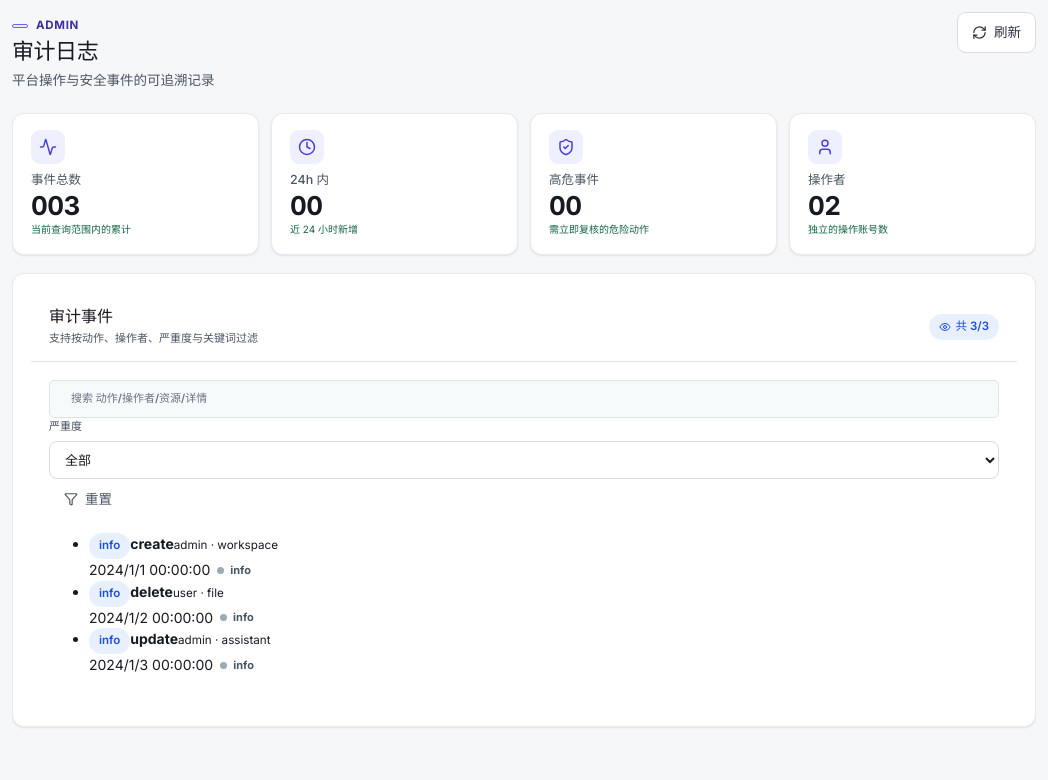
Test: AdminAuditLogsPage › 清空过滤输入框时恢复显示全部日志
Expected: the number of list items with test id "audit-logs-item" is 3, [89,534,278,578]; [89,581,254,626]; [89,628,270,673]
Type "delete" into the search field with test id "audit-filter-input" at (524, 399), box [59,382,989,416]
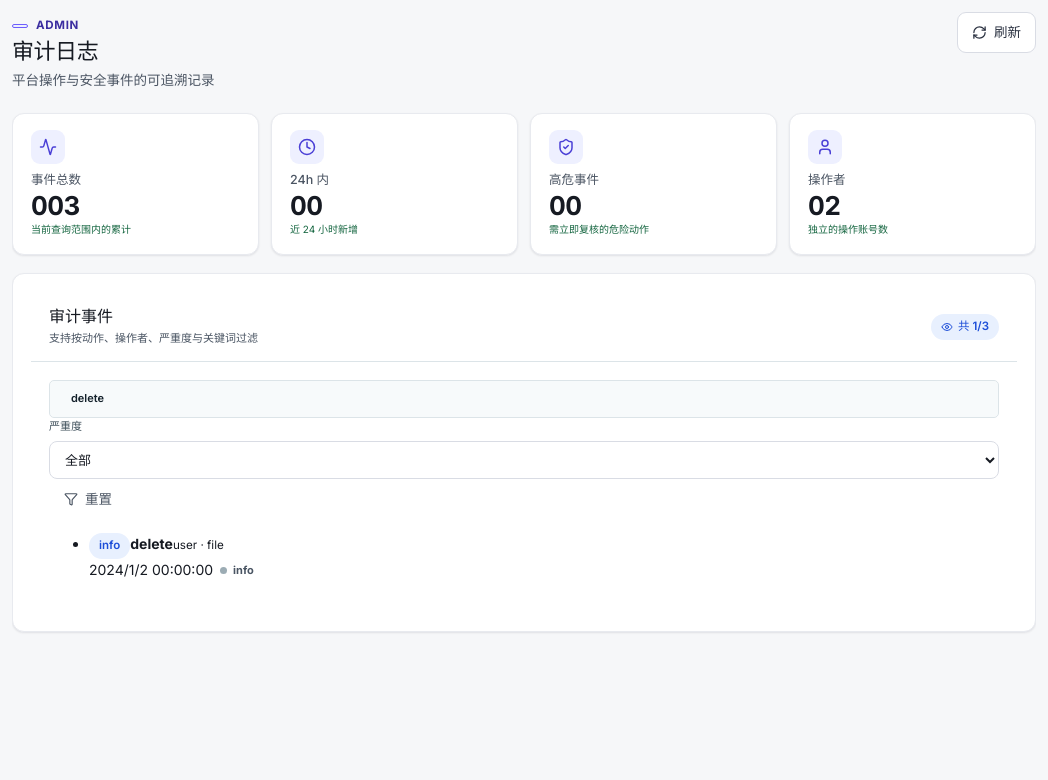
Now the number of list items with test id "audit-logs-item" is 1, box [89,534,254,578]
Clear the search field with test id "audit-filter-input" at (524, 399), box [59,382,989,416]
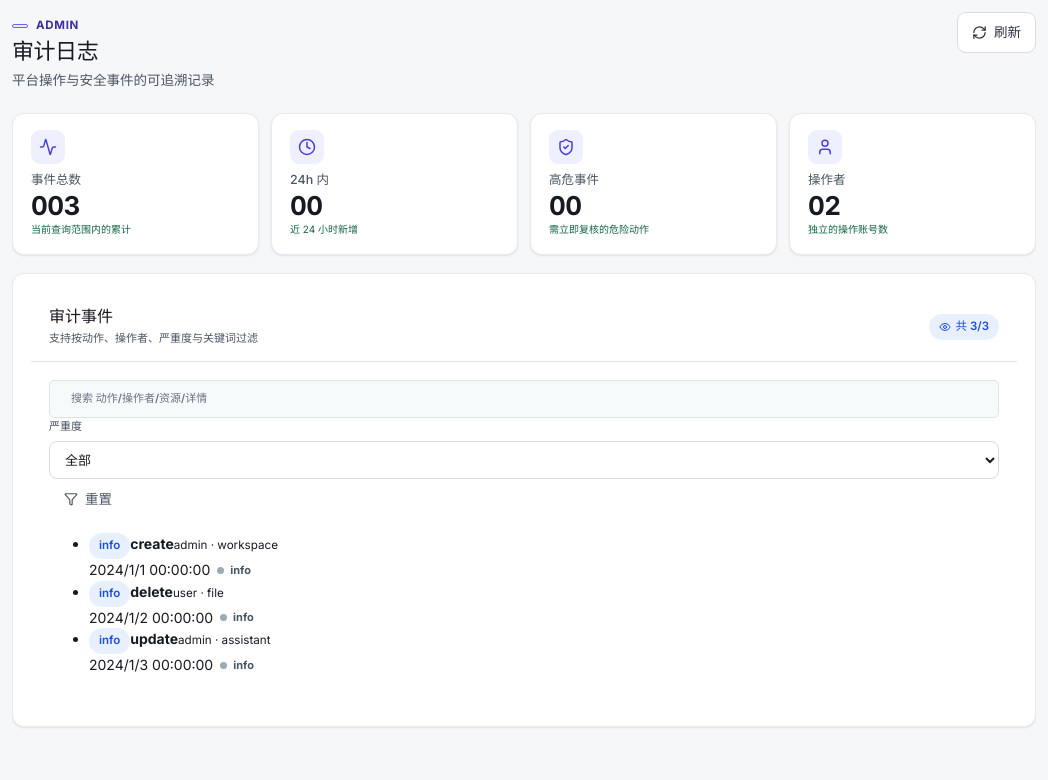
Now the number of list items with test id "audit-logs-item" is 3, box [89,534,278,578]; [89,581,254,626]; [89,628,270,673]
